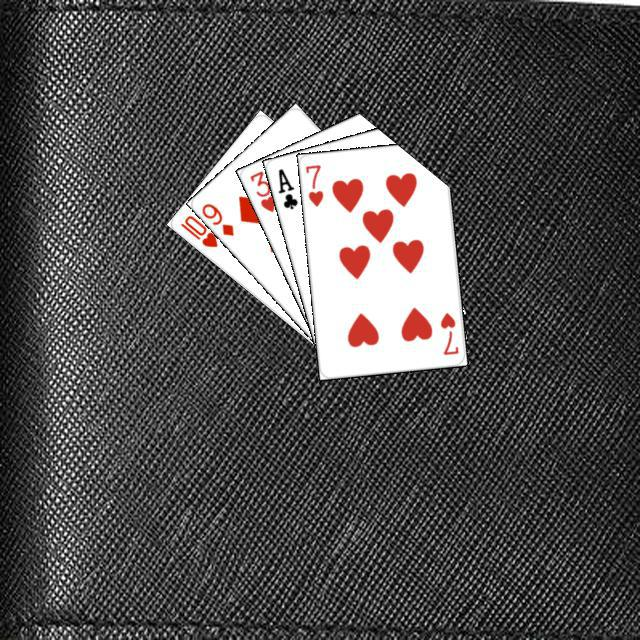10h: (175, 210, 220, 249)
3h: (245, 166, 277, 214)
7h: (435, 308, 460, 357), (301, 160, 325, 208)
9d: (197, 198, 236, 238)
Ac: (273, 163, 300, 211)
